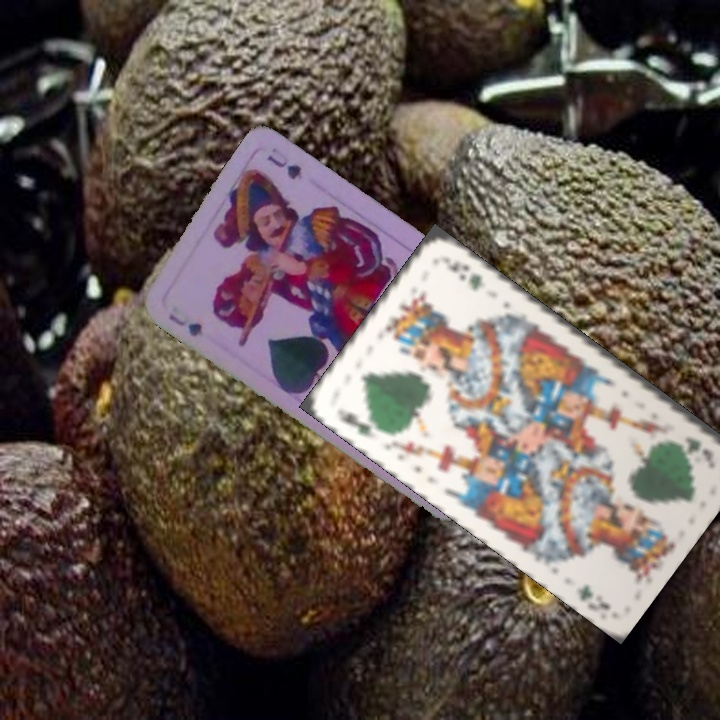GK: (332, 407, 379, 441), (681, 432, 713, 464)
GU: (164, 310, 207, 340)
